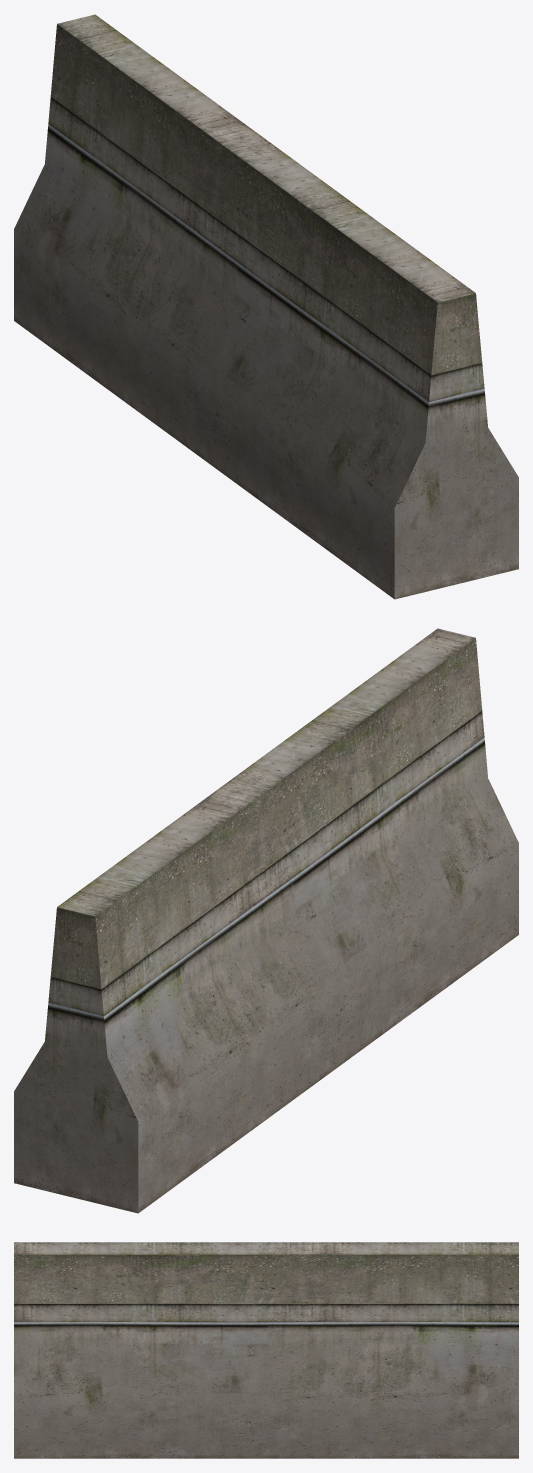
The model's file is traffic barrier.FBX.
3 views of the same model, one above another, from view 1: azimuth 30°, elevation 25°; view 2: azimuth 150°, elevation 25°; view 3: azimuth 270°, elevation 25° (orthographic). The views are drawn at different scales.
Parts seen in each view (by area): view 1: traffic barrier; view 2: traffic barrier; view 3: traffic barrier.
Boxes of the visible parts, x1,y1,x2,y2 form: traffic barrier: [14, 14, 518, 599]; traffic barrier: [14, 628, 518, 1213]; traffic barrier: [14, 1242, 518, 1458].
Bounding box in the file's own units: 1.82 × 4 × 9.63.
